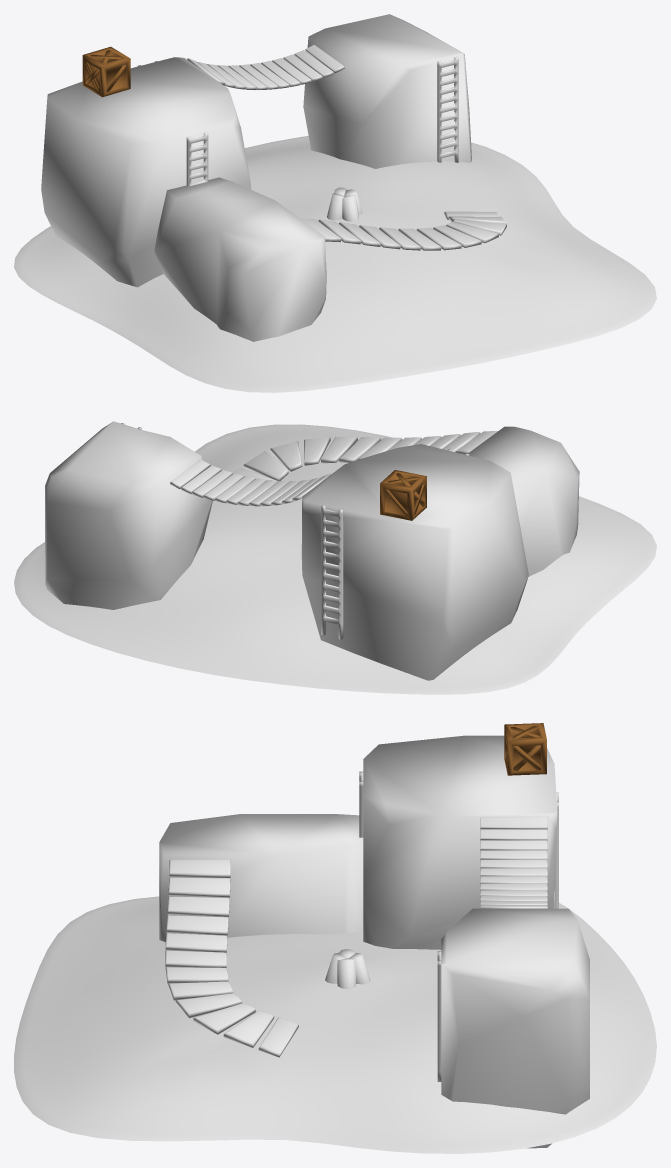
The model's file is Island 1.fbx.
3 views of the same model, one above another, from view 1: azimuth 30°, elevation 25°; view 2: azimuth 150°, elevation 25°; view 3: azimuth 270°, elevation 25° (orthographic). The views are drawn at different scales.
Visible parts, largest first — view 1: Cube, Cube.004, Cube.005, Cube.001, Cube.040, Cube.006, Cube.011, Cube.003, Cube.007; view 2: Cube, Cube.004, Cube.001, Cube.005, Cube.040, Cube.006, Cube.020, Cube.011; view 3: Cube, Cube.001, Cube.004, Cube.005, Cube.040, Cube.006, Cube.011, Cube.003.
Part boxes in pixels (left/top/right/bottom): Cube: left=14, top=136, right=656, bottom=392; Cube.004: left=41, top=57, right=251, bottom=287; Cube.005: left=154, top=177, right=326, bottom=341; Cube.001: left=303, top=14, right=471, bottom=168; Cube.040: left=300, top=211, right=506, bottom=250; Cube.006: left=187, top=44, right=344, bottom=89; Cube.011: left=82, top=46, right=130, bottom=97; Cube.003: left=437, top=56, right=458, bottom=162; Cube.007: left=186, top=132, right=208, bottom=186; Cube: left=14, top=424, right=656, bottom=694; Cube.004: left=301, top=444, right=528, bottom=680; Cube.001: left=45, top=421, right=212, bottom=609; Cube.005: left=468, top=426, right=579, bottom=576; Cube.040: left=232, top=431, right=497, bottom=481; Cube.006: left=170, top=459, right=331, bottom=506; Cube.020: left=321, top=505, right=343, bottom=639; Cube.011: left=380, top=470, right=426, bottom=520; Cube: left=14, top=896, right=656, bottom=1153; Cube.001: left=441, top=908, right=589, bottom=1148; Cube.004: left=363, top=735, right=557, bottom=949; Cube.005: left=159, top=814, right=363, bottom=941; Cube.040: left=165, top=860, right=298, bottom=1057; Cube.006: left=480, top=817, right=547, bottom=908; Cube.011: left=504, top=723, right=546, bottom=775; Cube.003: left=437, top=951, right=441, bottom=1081.
Size of what is drawn, in the model's own units: 13.73 by 5.54 by 13.63.
